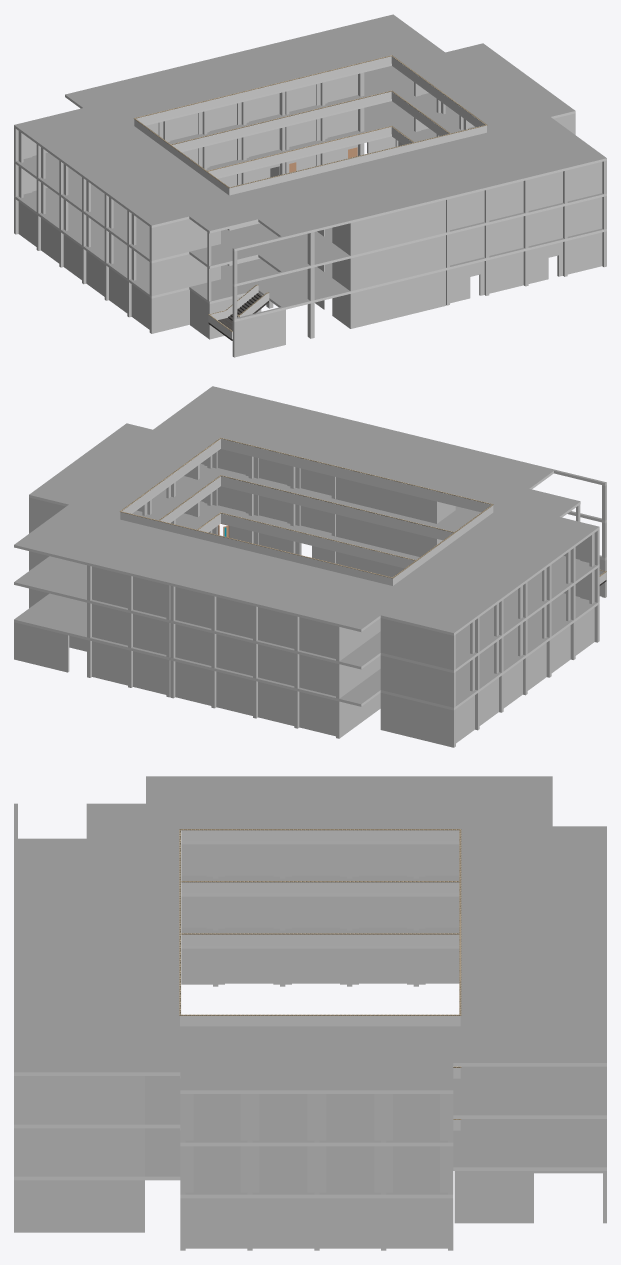
The model's file is ModeloToUnity.fbx.
3 views of the same model, one above another, from view 1: azimuth 30°, elevation 25°; view 2: azimuth 150°, elevation 25°; view 3: azimuth 270°, elevation 25° (orthographic). The views are drawn at different scales.
Visible parts, largest first — view 1: Techos_Techo_compuesto_techo_-_undc_1_3, Techos_Techo_compuesto_techo_-_undc_1_2, Techos_Techo_compuesto_techo_-_undc_1, Barandillas_Barandilla_Muro_-_10_cm_2.005, Barandillas_Barandilla_Muro_-_10_cm_2.002, Barandillas_Barandilla_Muro_-_10_cm, Barandales_superiores_Tipo_de_barandal_superior_Piedra__261, Muros_Muro_basico_Muro_undc_-_12_cm_116, Muros_Muro_basico_Muro_undc_-_12_cm_78, Muros_Muro_basico_Muro_undc_-_12_cm_24, Muros_Muro_basico_Muro_undc_-_12_cm_16, Muros_Muro_basico_Muro_undc_-_12_cm_99 (+38 smaller); view 2: Techos_Techo_compuesto_techo_-_undc_1_3, Techos_Techo_compuesto_techo_-_undc_1_2, Techos_Techo_compuesto_techo_-_undc_1, Barandillas_Barandilla_Muro_-_10_cm_2.005, Barandillas_Barandilla_Muro_-_10_cm_2.002, Barandillas_Barandilla_Muro_-_10_cm, Muros_Muro_basico_Muro_undc_-_12_cm_53, Muros_Muro_basico_Muro_undc_-_12_cm_85, Muros_Muro_basico_Muro_undc_-_12_cm_123, Barandales_superiores_Tipo_de_barandal_superior_Piedra__261, Muros_Muro_basico_Muro_undc_-_15_cm_2_4, Muros_Muro_basico_Muro_undc_-_15_cm_2_5 (+36 smaller); view 3: Techos_Techo_compuesto_techo_-_undc_1_3, Techos_Techo_compuesto_techo_-_undc_1, Techos_Techo_compuesto_techo_-_undc_1_2, Barandillas_Barandilla_Muro_-_10_cm_2.005, Barandillas_Barandilla_Muro_-_10_cm, Barandillas_Barandilla_Muro_-_10_cm_2.002, Muros_Muro_basico_Muro_undc_-_25_cm_4, Muros_Muro_basico_Muro_undc_-_25_cm_5, Muros_Muro_basico_Muro_undc_-_25_cm_6, Muros_Muro_basico_Muro_undc_-_15_cm_2_8, Muros_Muro_basico_Muro_undc_-_15_cm_2_9, Muros_Muro_basico_Muro_undc_-_15_cm_2_10 (+34 smaller).
Boxes of the visible parts, x1,y1,x2,y2 form: Techos_Techo_compuesto_techo_-_undc_1_3: (14, 14, 606, 251); Techos_Techo_compuesto_techo_-_undc_1_2: (14, 66, 606, 286); Techos_Techo_compuesto_techo_-_undc_1: (14, 101, 606, 322); Barandillas_Barandilla_Muro_-_10_cm_2.005: (134, 56, 486, 195); Barandillas_Barandilla_Muro_-_10_cm_2.002: (172, 91, 448, 230); Barandillas_Barandilla_Muro_-_10_cm: (208, 127, 412, 265); Barandales_superiores_Tipo_de_barandal_superior_Piedra__261: (134, 55, 487, 188); Muros_Muro_basico_Muro_undc_-_12_cm_116: (168, 219, 203, 256); Muros_Muro_basico_Muro_undc_-_12_cm_78: (168, 254, 203, 291); Muros_Muro_basico_Muro_undc_-_12_cm_24: (377, 281, 403, 322); Muros_Muro_basico_Muro_undc_-_12_cm_16: (492, 253, 519, 292); Muros_Muro_basico_Muro_undc_-_12_cm_99: (377, 210, 403, 249); Techos_Techo_compuesto_techo_-_undc_1_3: (14, 386, 606, 635); Techos_Techo_compuesto_techo_-_undc_1_2: (14, 464, 606, 672); Techos_Techo_compuesto_techo_-_undc_1: (14, 501, 606, 710); Barandillas_Barandilla_Muro_-_10_cm_2.005: (120, 439, 493, 585); Barandillas_Barandilla_Muro_-_10_cm_2.002: (160, 476, 452, 538); Barandillas_Barandilla_Muro_-_10_cm: (199, 513, 414, 566); Muros_Muro_basico_Muro_undc_-_12_cm_53: (398, 697, 435, 743); Muros_Muro_basico_Muro_undc_-_12_cm_85: (398, 660, 435, 703); Muros_Muro_basico_Muro_undc_-_12_cm_123: (398, 622, 435, 665); Barandales_superiores_Tipo_de_barandal_superior_Piedra__261: (119, 437, 493, 578); Muros_Muro_basico_Muro_undc_-_15_cm_2_4: (220, 672, 250, 715); Muros_Muro_basico_Muro_undc_-_15_cm_2_5: (262, 682, 291, 725); Techos_Techo_compuesto_techo_-_undc_1_3: (14, 776, 606, 1093); Techos_Techo_compuesto_techo_-_undc_1: (14, 927, 606, 1198); Techos_Techo_compuesto_techo_-_undc_1_2: (14, 875, 606, 1146); Barandillas_Barandilla_Muro_-_10_cm_2.005: (180, 830, 460, 1026); Barandillas_Barandilla_Muro_-_10_cm: (180, 934, 460, 1130); Barandillas_Barandilla_Muro_-_10_cm_2.002: (180, 882, 460, 1078); Muros_Muro_basico_Muro_undc_-_25_cm_4: (49, 1180, 109, 1232); Muros_Muro_basico_Muro_undc_-_25_cm_5: (49, 1128, 109, 1176); Muros_Muro_basico_Muro_undc_-_25_cm_6: (49, 1076, 109, 1124); Muros_Muro_basico_Muro_undc_-_15_cm_2_8: (326, 1198, 374, 1248); Muros_Muro_basico_Muro_undc_-_15_cm_2_9: (259, 1198, 307, 1248); Muros_Muro_basico_Muro_undc_-_15_cm_2_10: (193, 1198, 240, 1248).
Bounding box in the file's own units: 5551 × 1414 × 4431.
9 materials, 9 textured.
